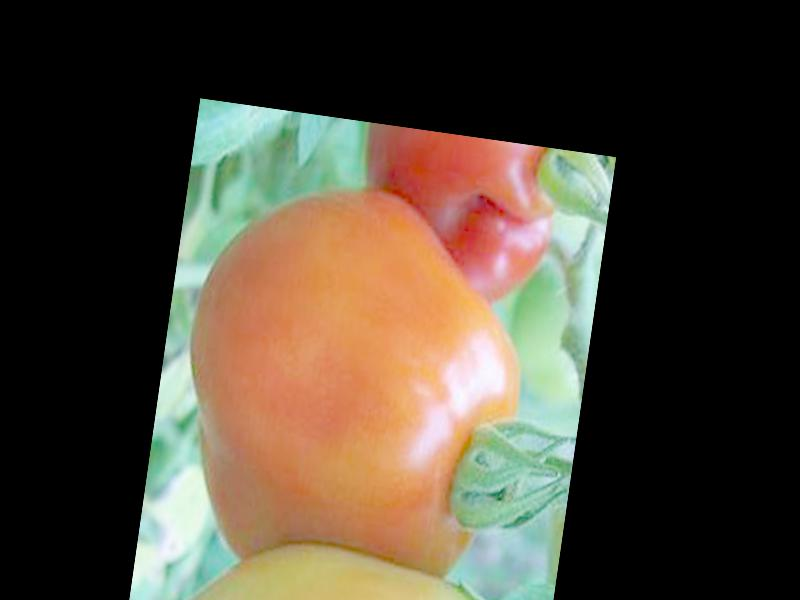Tomato: (164, 167, 544, 576)
